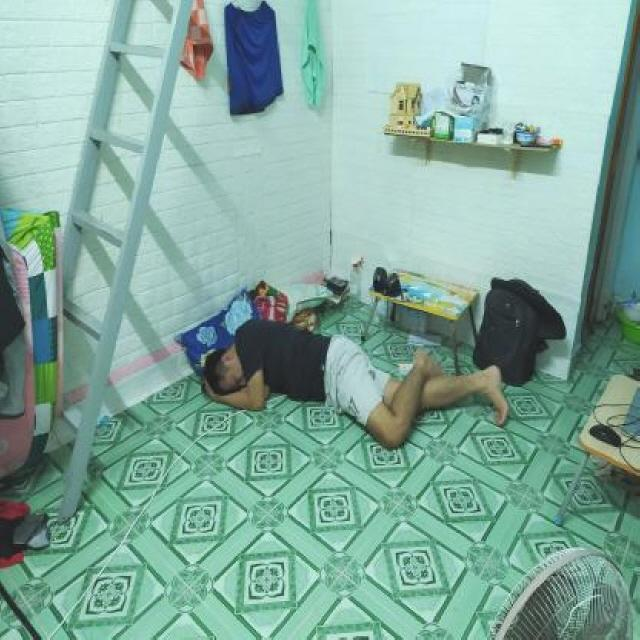Fall: (203, 320, 510, 448)
